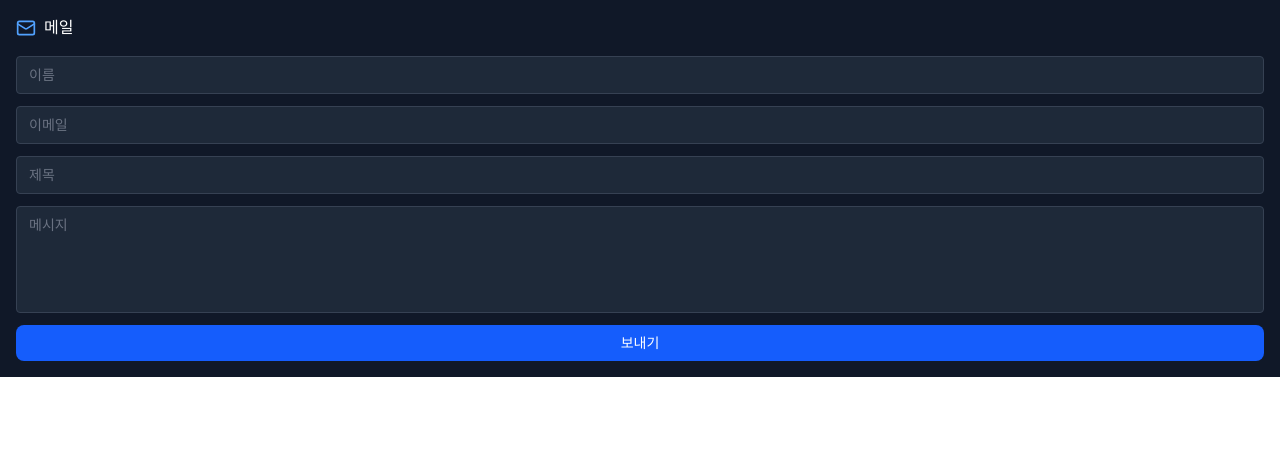
Test: MailingApp › shows error and fallback link when API returns fallback
This screenshot has width=1280, height=452.
Type "Hana" into the field with test id "mail-name".
click(640, 75); type("Hana")  # box [16,56,1264,94]
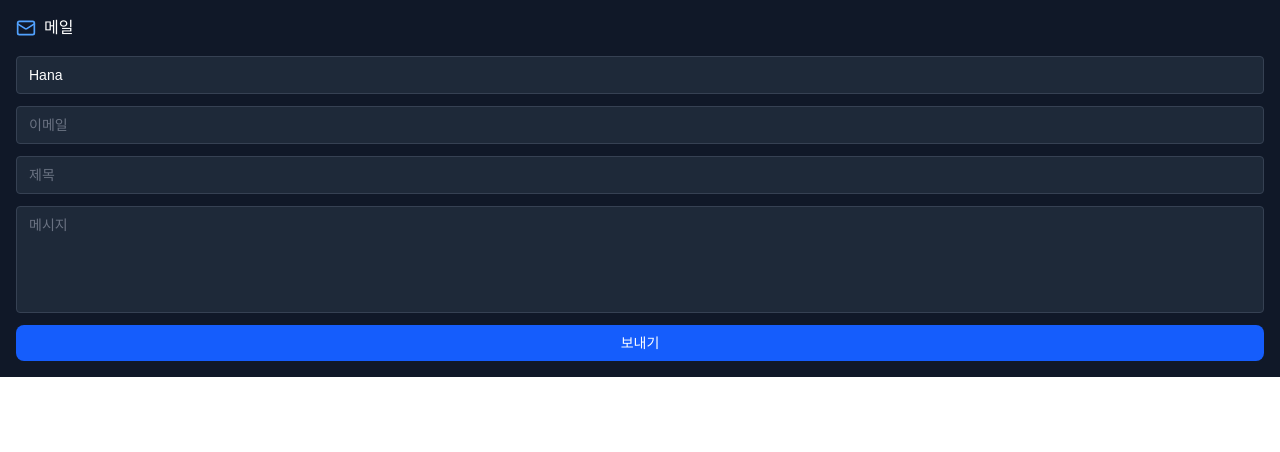
Type "hana@example.com" into the field with test id "mail-email".
click(640, 125); type("hana@example.com")  # box [16,106,1264,144]
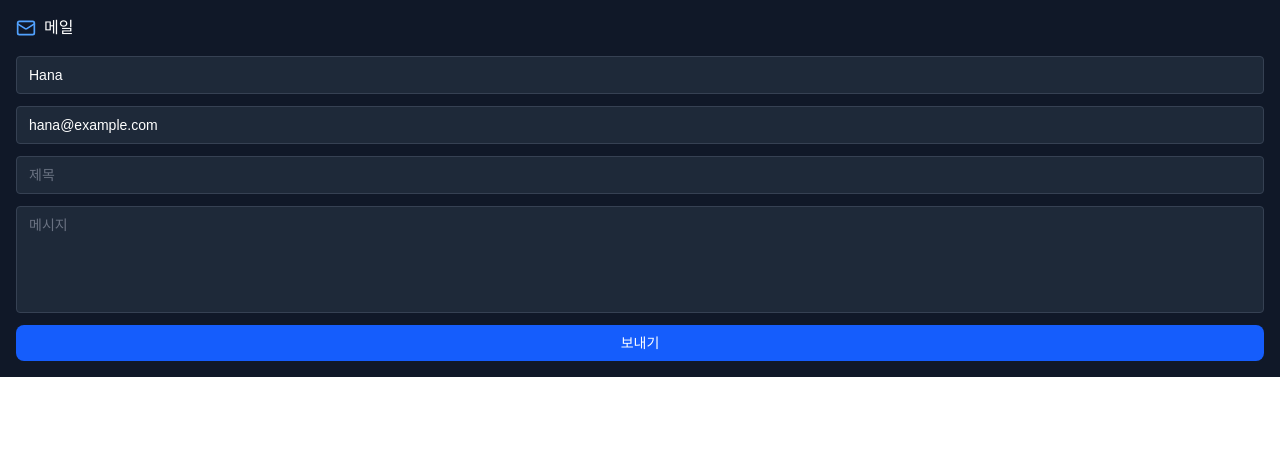
Type "Hello" into the field with test id "mail-subject".
click(640, 175); type("Hello")  # box [16,156,1264,194]
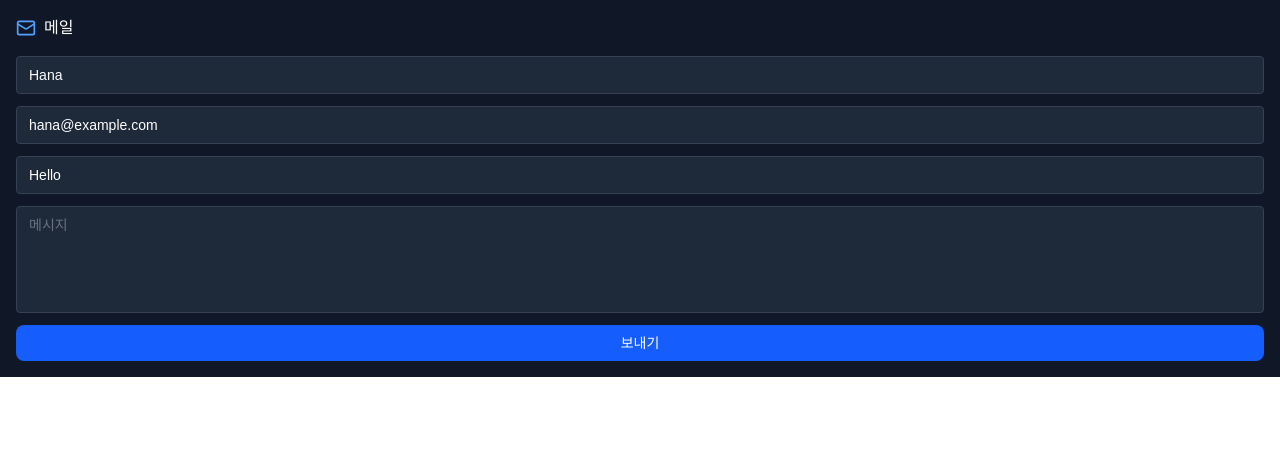
Type "Test message" into the text box with test id "mail-message".
click(640, 260); type("Test message")  # box [16,206,1264,313]
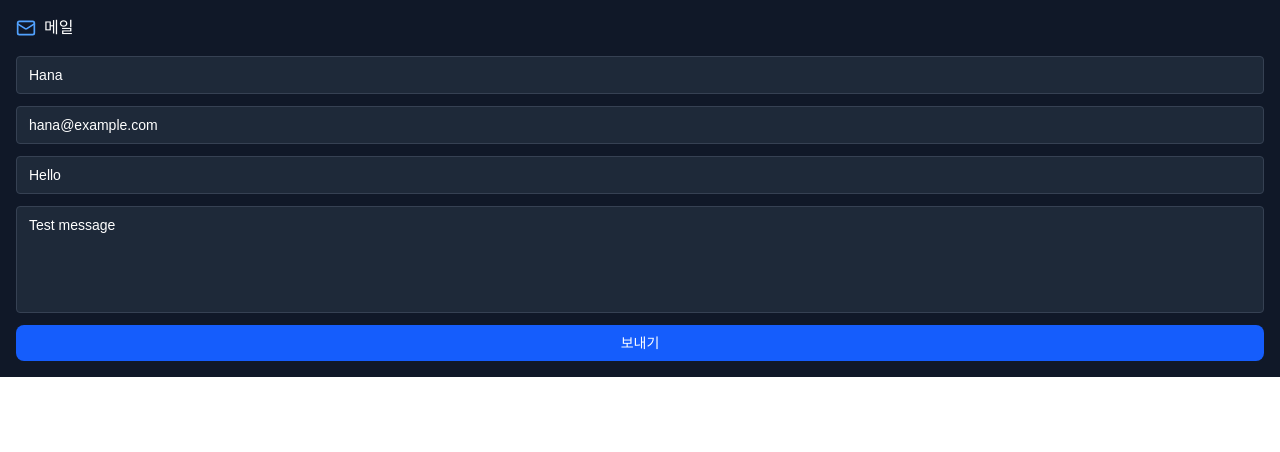
Click the button with test id "mail-submit".
click(640, 343)  # box [16,325,1264,361]
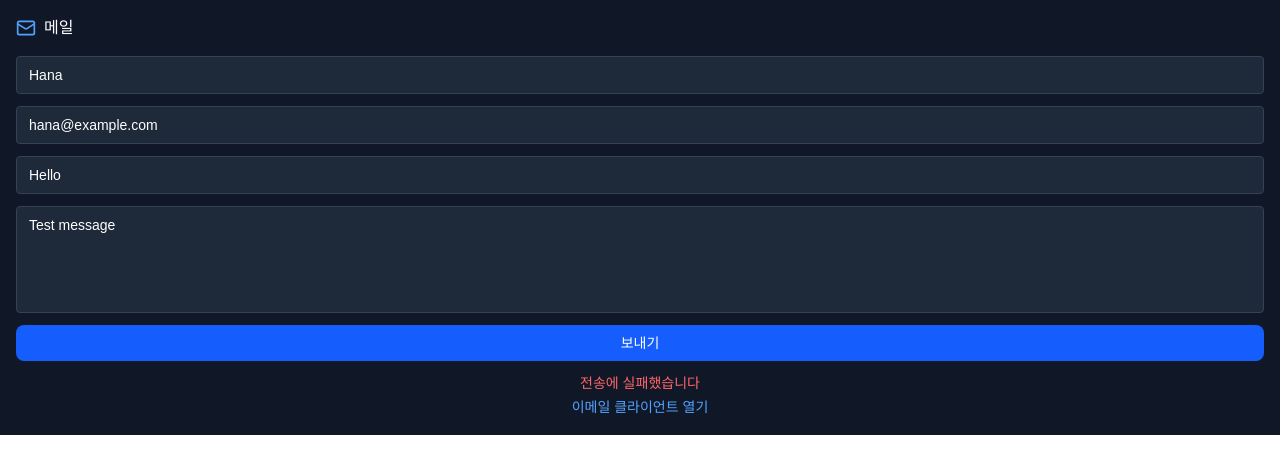
Now the text "전송에 실패했습니다" is shown, box [580,375,700,391]
Now the link with test id "mail-fallback" is shown, box [572,397,708,417]
